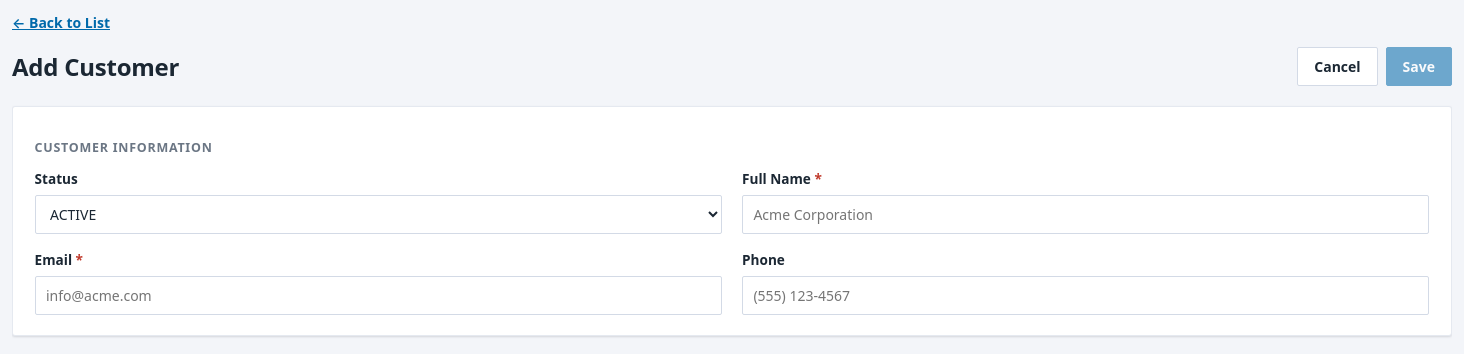
Test: CustomerFormPage › enables Save once name and email are entered
Type "Test Co" into the field with placeholder "Acme Corporation".
click(1086, 214); type("Test Co")  # box [742,195,1429,234]
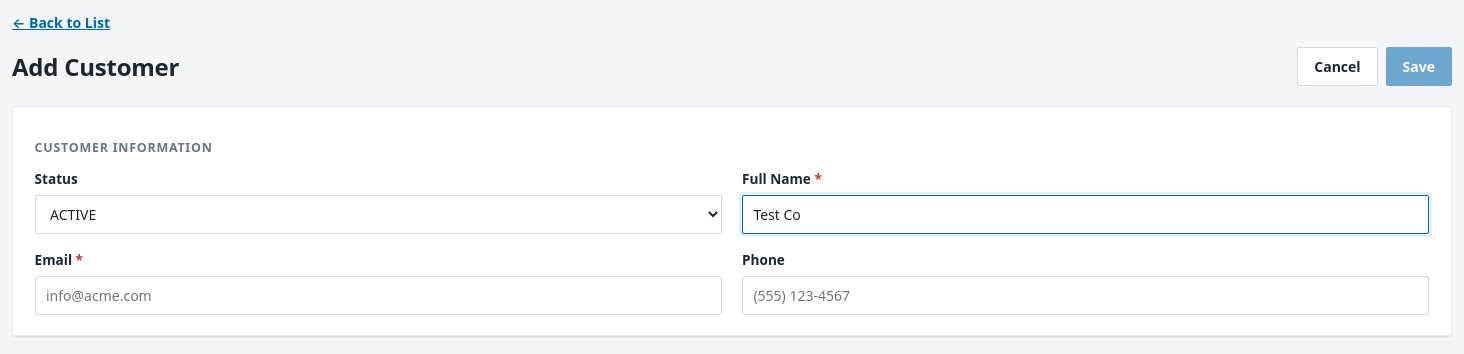
Type "test@example.com" into the field with placeholder "info@acme.com".
click(378, 295); type("test@example.com")  # box [35,276,722,315]
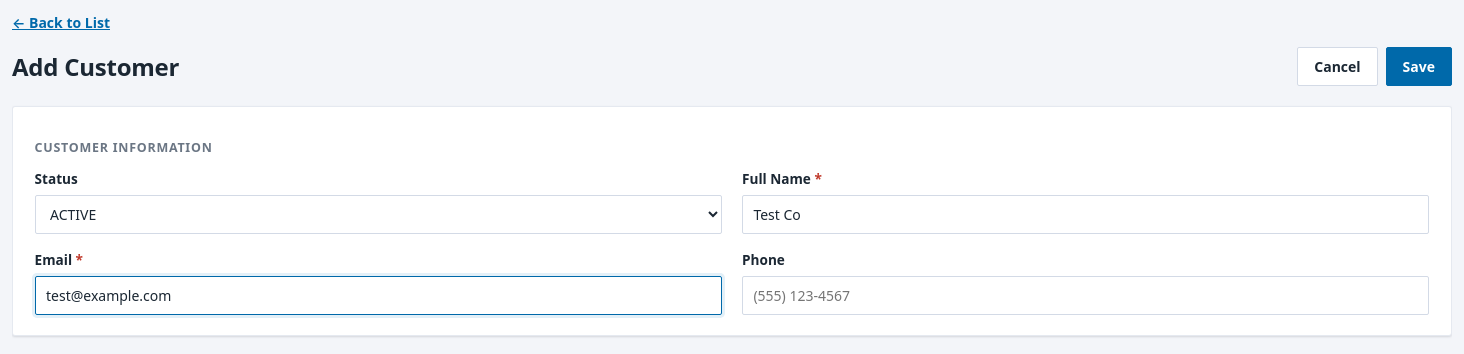
Expected: the button "Save" is enabled, [1386,47,1452,86]
